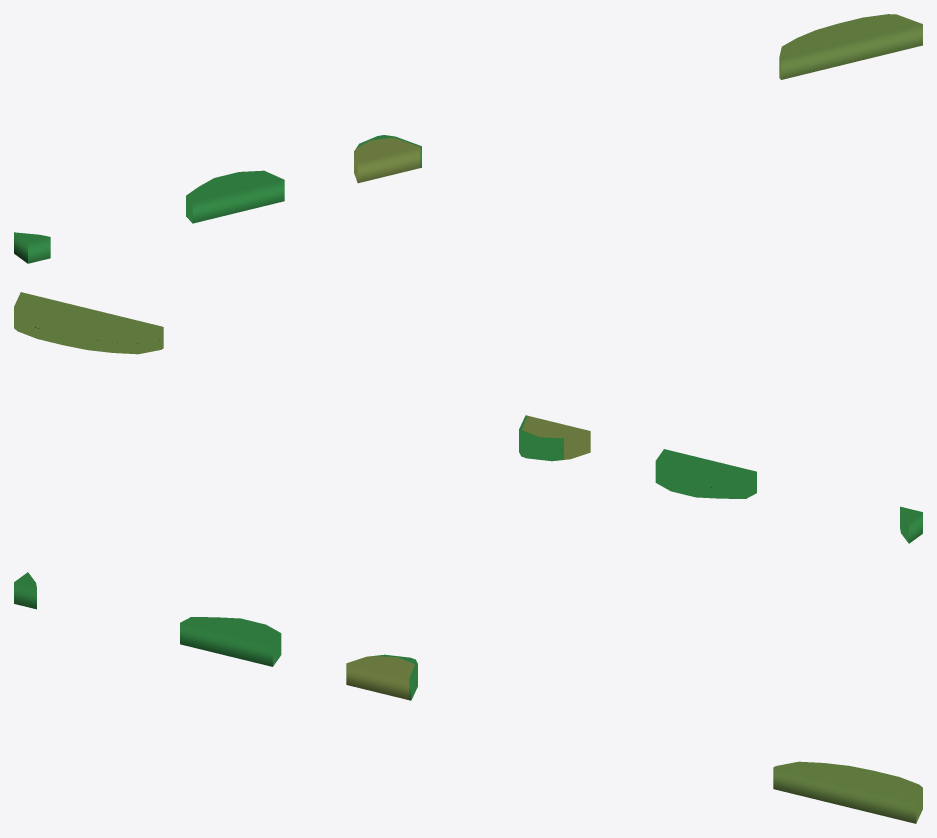
File: backbackhillright.fbx
3 views of the same model, one above another, from view 1: azimuth 30°, elevation 25°; view 2: azimuth 150°, elevation 25°; view 3: azimuth 330°, elevation 25° (orthographic).
Visible parts, largest first — view 1: backbackhillsright1; view 2: backbackhillsright1; view 3: backbackhillsright1.
Boxes of the visible parts, x1,y1,x2,y2 form: backbackhillsright1: (14, 14, 922, 263); backbackhillsright1: (14, 292, 922, 543); backbackhillsright1: (14, 572, 922, 823).
Size of the model in its own units: 0.8775 by 0.02 by 0.0369.
